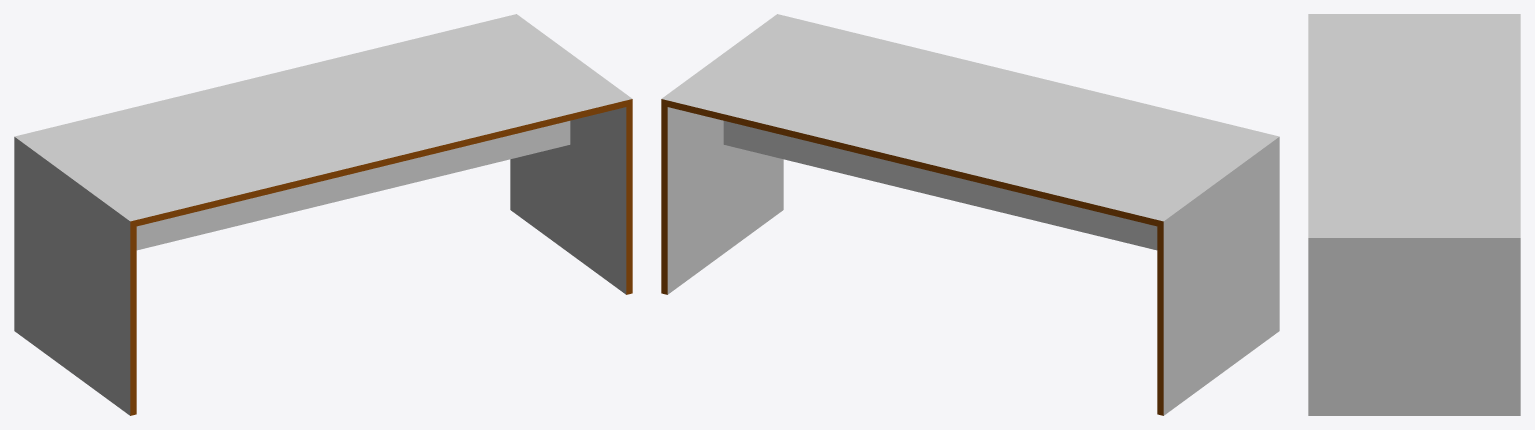
3 renders of one model, left to right at view 1: azimuth 30°, elevation 25°; view 2: azimuth 150°, elevation 25°; view 3: azimuth 270°, elevation 25°, orthographic. The views are drawn at different scales.
Visible parts, largest first — view 1: Group_75, Group_82, Group_78, Group_118, Group_84; view 2: Group_75, Group_82, Group_78, Group_120, Group_83; view 3: Group_75, Group_76.
Part boxes in pixels (<box>): Group_75: <box>14,14,632,221</box>; Group_82: <box>14,137,130,415</box>; Group_78: <box>510,107,626,294</box>; Group_118: <box>136,121,570,250</box>; Group_84: <box>130,99,632,415</box>; Group_75: <box>661,14,1279,221</box>; Group_82: <box>1163,137,1279,415</box>; Group_78: <box>667,107,783,294</box>; Group_120: <box>723,121,1157,250</box>; Group_83: <box>661,99,1163,415</box>; Group_75: <box>1308,14,1520,237</box>; Group_76: <box>1308,238,1520,415</box>.
Bounding box in the file's own units: 78.74 × 31.5 × 29.13.
